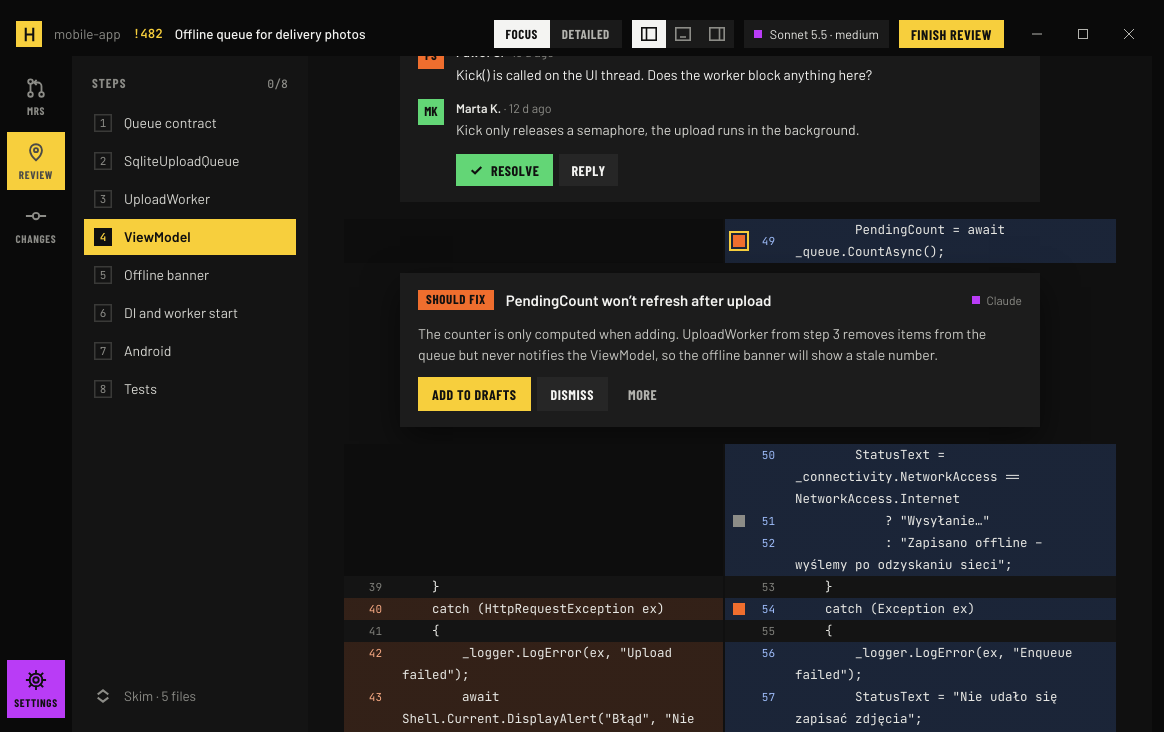
Test case: S-03 self-review › F-17.2 a merge request session keeps Add to drafts, Edit and add and its thread icons
(page scrolled)
Click the button "More".
click(643, 394)  # box [614,377,671,411]
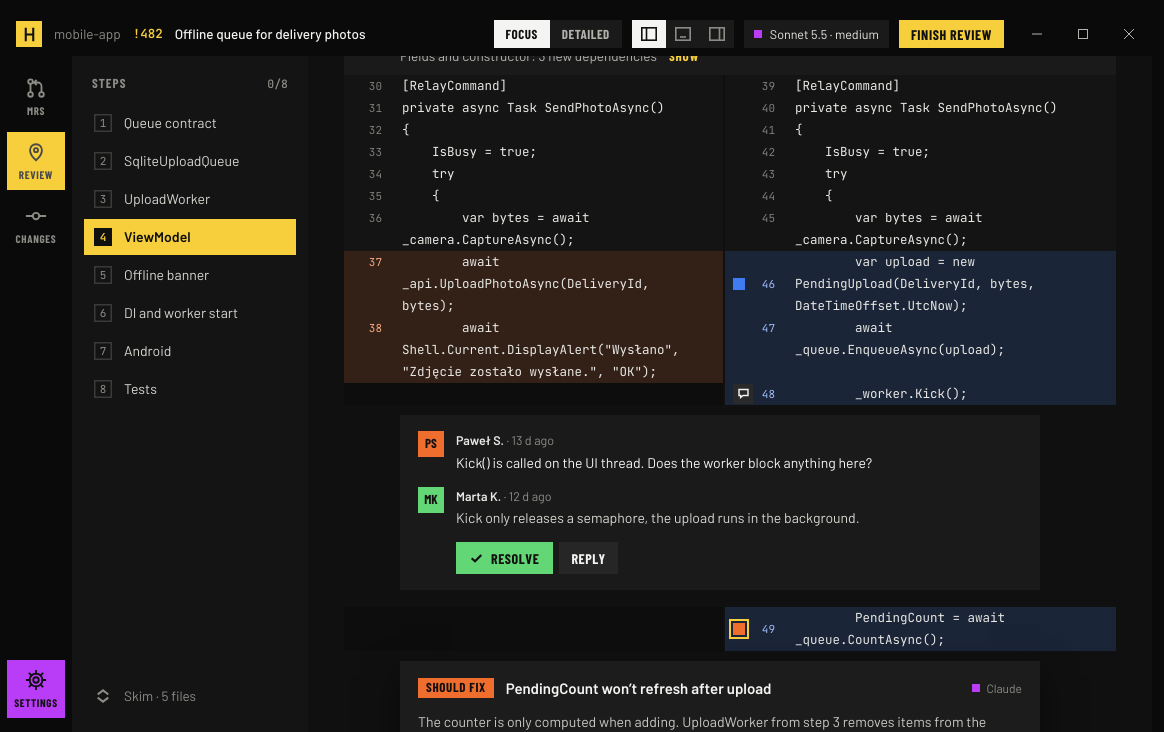
Expected: the button named "Thread by Paweł S. at line 48" is shown, [733,384,753,404]
